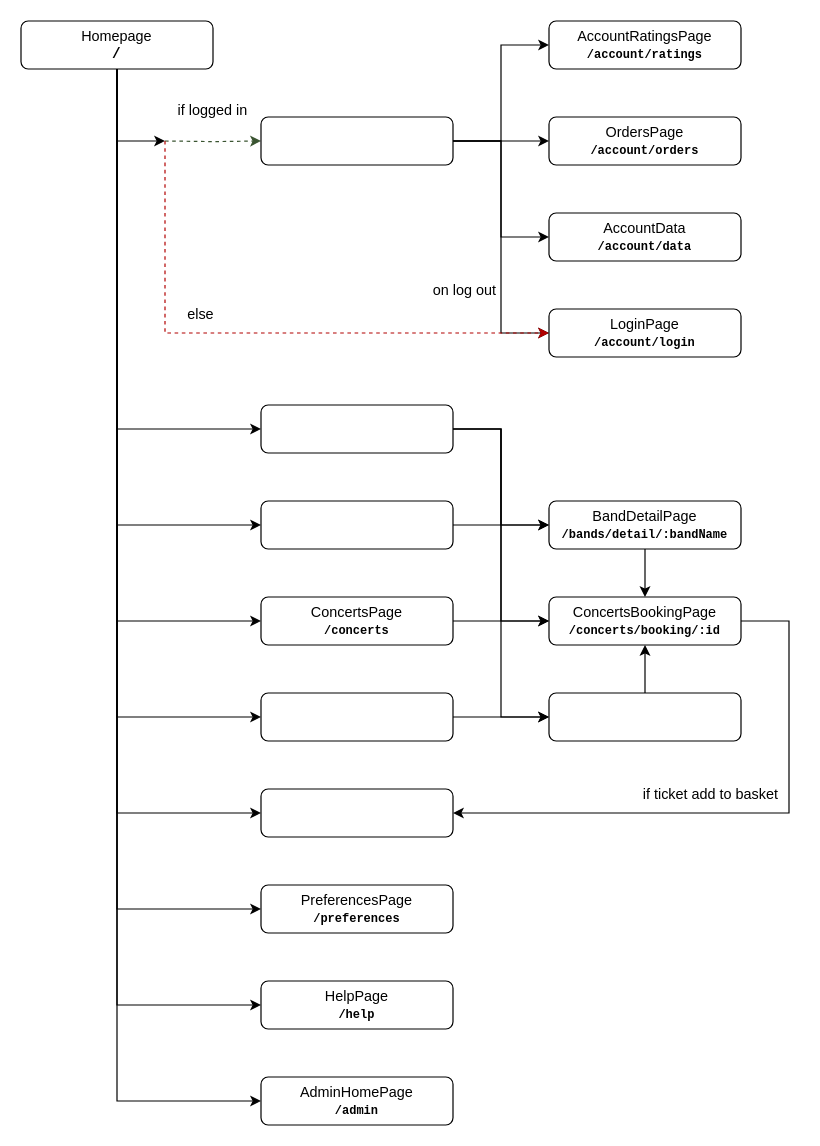
The diagram is 820 pixels wide and 1146 high, and some of its shapes have lost their labels. Here are the shapes that lost their labels. From the top down, the centre of each, then its label:
the point at 356,140: AccountHomePage /account
the point at 356,428: SearchPage /search
the point at 356,524: BandsPage /bands
the point at 356,716: LocationsPage /locations
the point at 644,716: LocationsDetailPage /locations/detail/:name
the point at 356,812: BasketPage /basket
